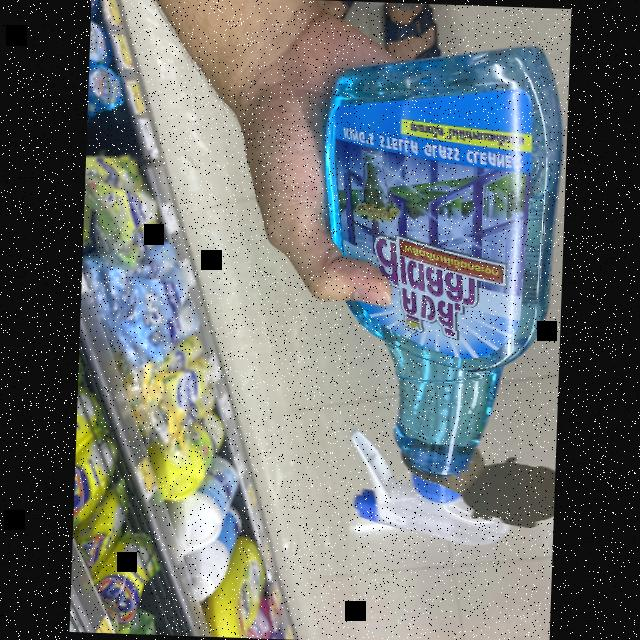chemical_plastic_bottle: (310, 38, 570, 552)
